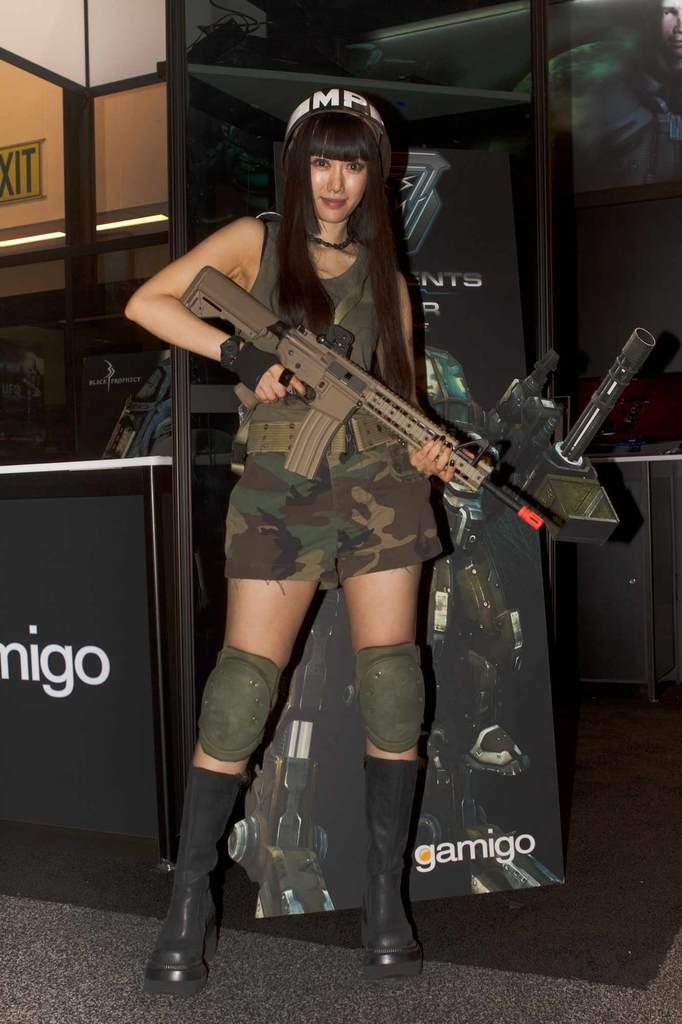Rifle: (178, 266, 545, 533)
